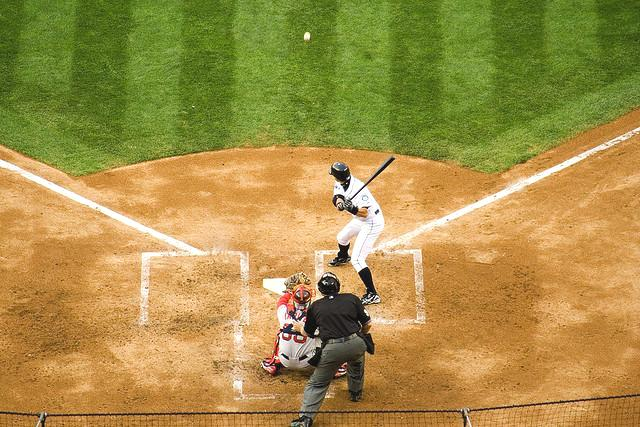baseball bat: (349, 154, 397, 202)
sports ball: (302, 32, 310, 42)
